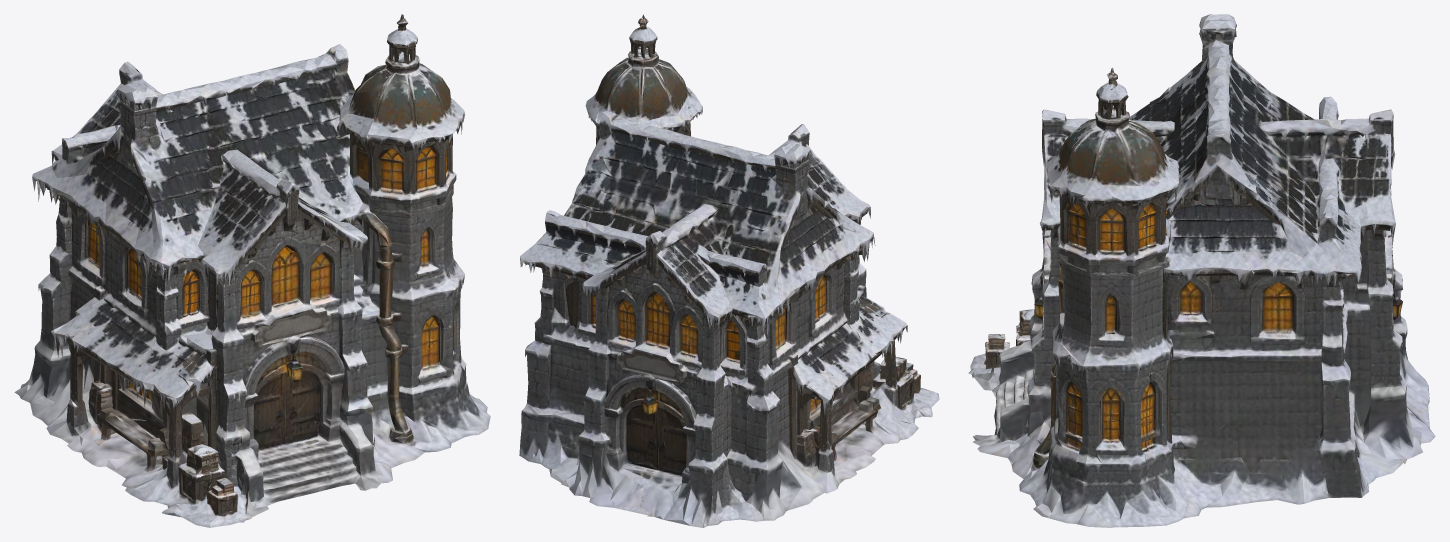
Rendered from library.glb.
3 views of the same model, side by side, from view 1: azimuth 30°, elevation 25°; view 2: azimuth 150°, elevation 25°; view 3: azimuth 270°, elevation 25° (orthographic). The views are drawn at different scales.
Size of the model in its own units: 1.78 by 1.9 by 1.91.
Materials: 1 (1 with a texture image).
